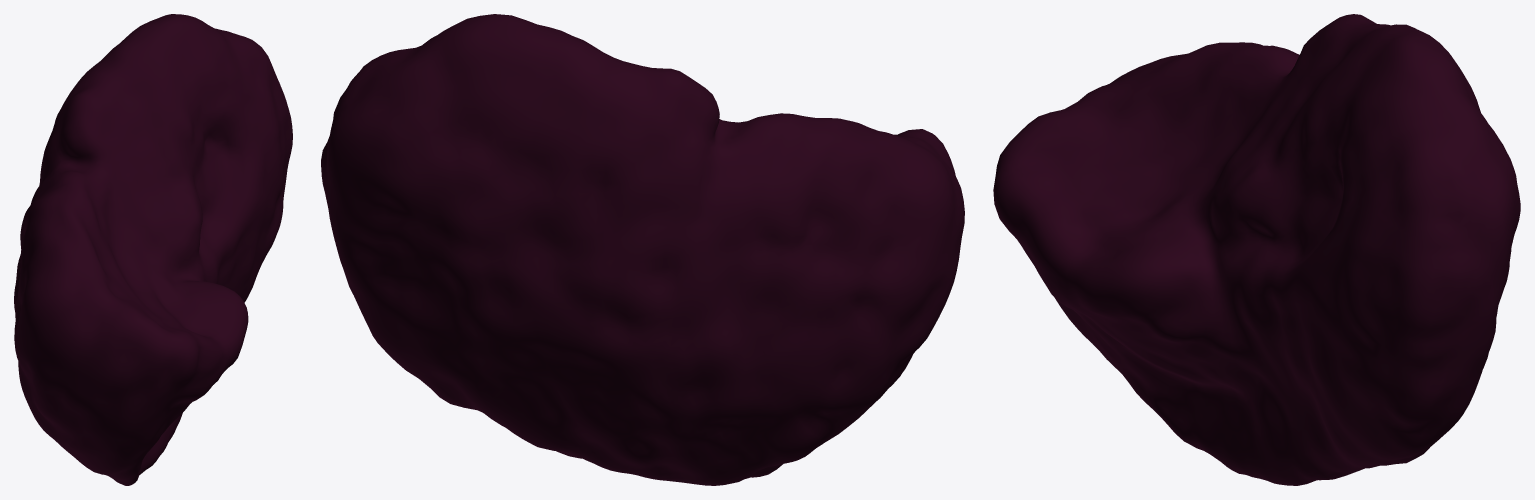
Rendered from Spleen.obj.
3 renders of one model, left to right at view 1: azimuth 30°, elevation 25°; view 2: azimuth 150°, elevation 25°; view 3: azimuth 270°, elevation 25°, orthographic. The views are drawn at different scales.
Visible parts, largest first — view 1: Spleen; view 2: Spleen; view 3: Spleen.
Boxes of the visible parts, x1,y1,x2,y2 form: Spleen: (14,14,292,485); Spleen: (321,14,964,485); Spleen: (993,14,1520,485).
Bounding box in the file's own units: 4.31 × 4.25 × 4.16.
